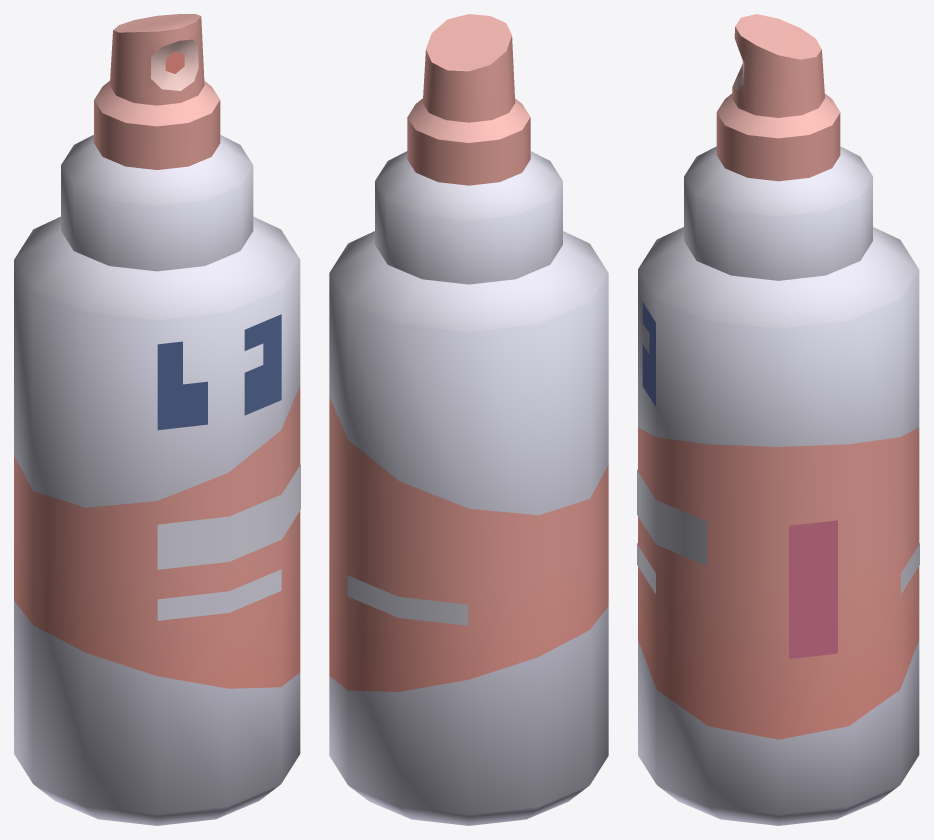
File: BodySpray.fbx
The picture shows the model from 3 angles, left to right: view 1: azimuth 30°, elevation 25°; view 2: azimuth 150°, elevation 25°; view 3: azimuth 270°, elevation 25°; orthographic projection. The views are drawn at different scales.
Visible parts, largest first — view 1: BodySpray; view 2: BodySpray; view 3: BodySpray.
Boxes of the visible parts, x1=… form: BodySpray: x1=14, y1=14, x2=300, y2=825; BodySpray: x1=329, y1=14, x2=608, y2=825; BodySpray: x1=637, y1=14, x2=919, y2=825.
Size of the model in its own units: 1.19 by 3.5 by 1.2.
